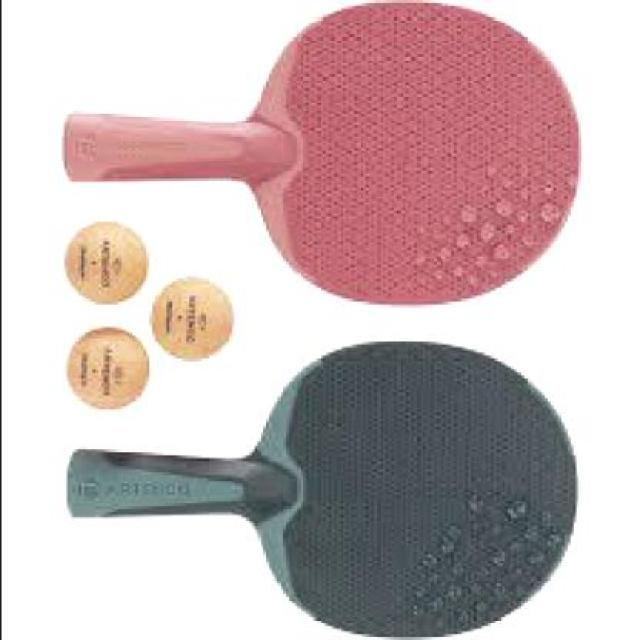table_tennis_racket: (236, 0, 586, 311), (245, 333, 580, 639)
